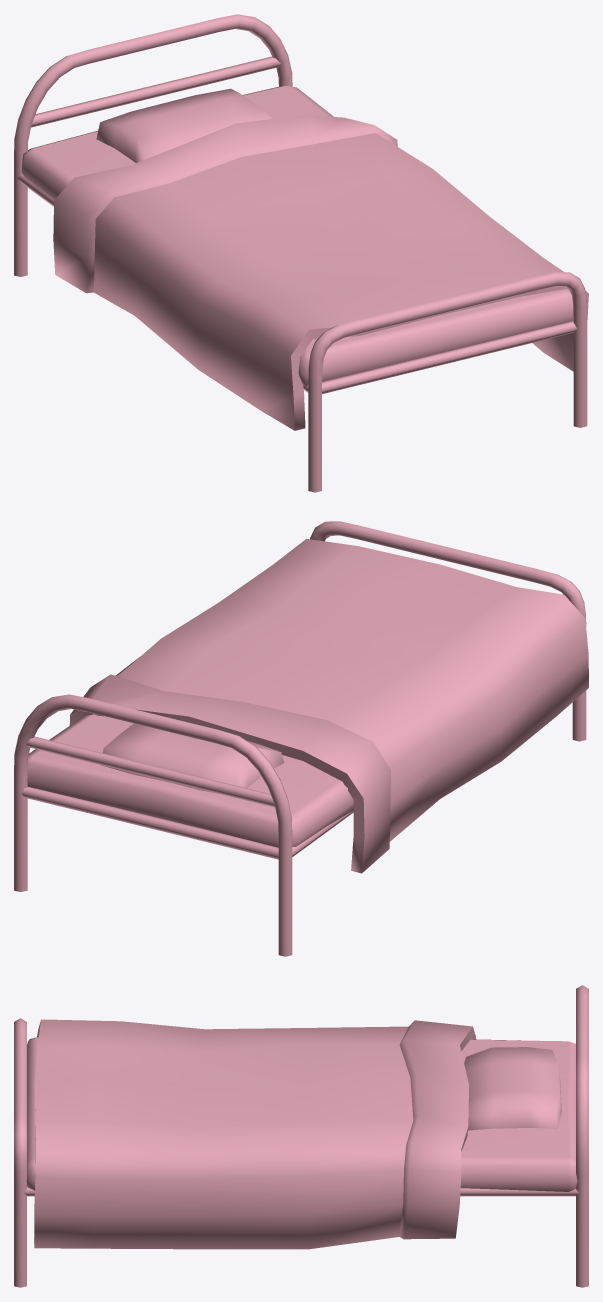
File: Bed.fbx
3 renders of one model, top to bottom at view 1: azimuth 30°, elevation 25°; view 2: azimuth 150°, elevation 25°; view 3: azimuth 270°, elevation 25°, orthographic. The views are drawn at different scales.
Visible parts, largest first — view 1: Bed; view 2: Bed; view 3: Bed.
Boxes of the visible parts, x1=… form: Bed: x1=14, y1=14, x2=588, y2=492; Bed: x1=14, y1=521, x2=588, y2=956; Bed: x1=14, y1=985, x2=588, y2=1287.
Size of the model in its own units: 137 by 87.28 by 230.
